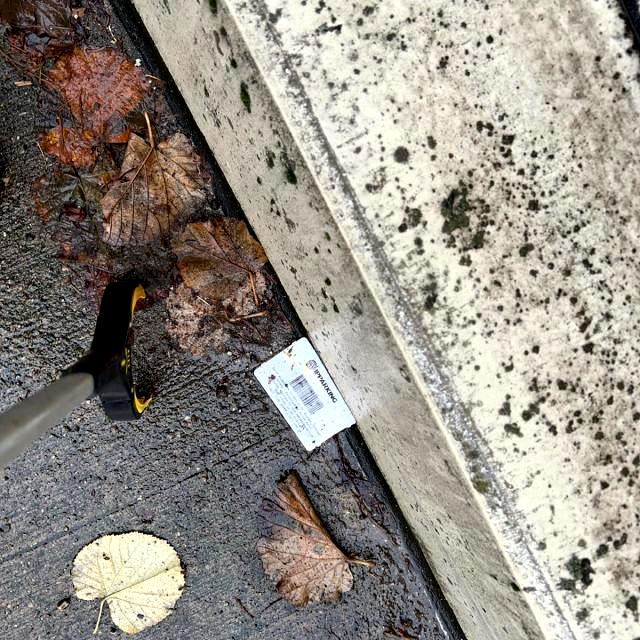Paper: (252, 333, 358, 453)
